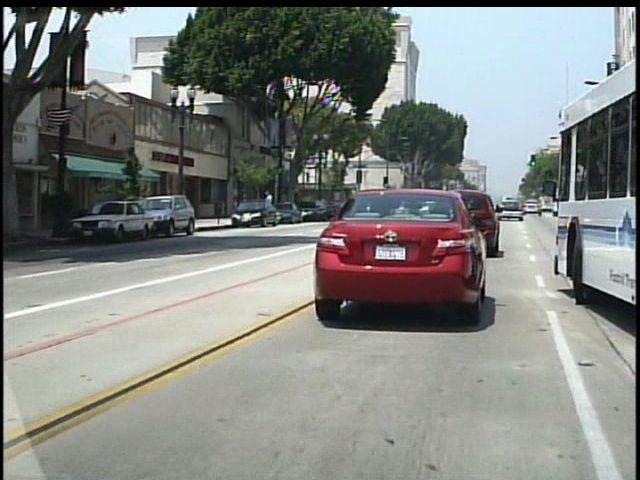person: (264, 189, 277, 225)
